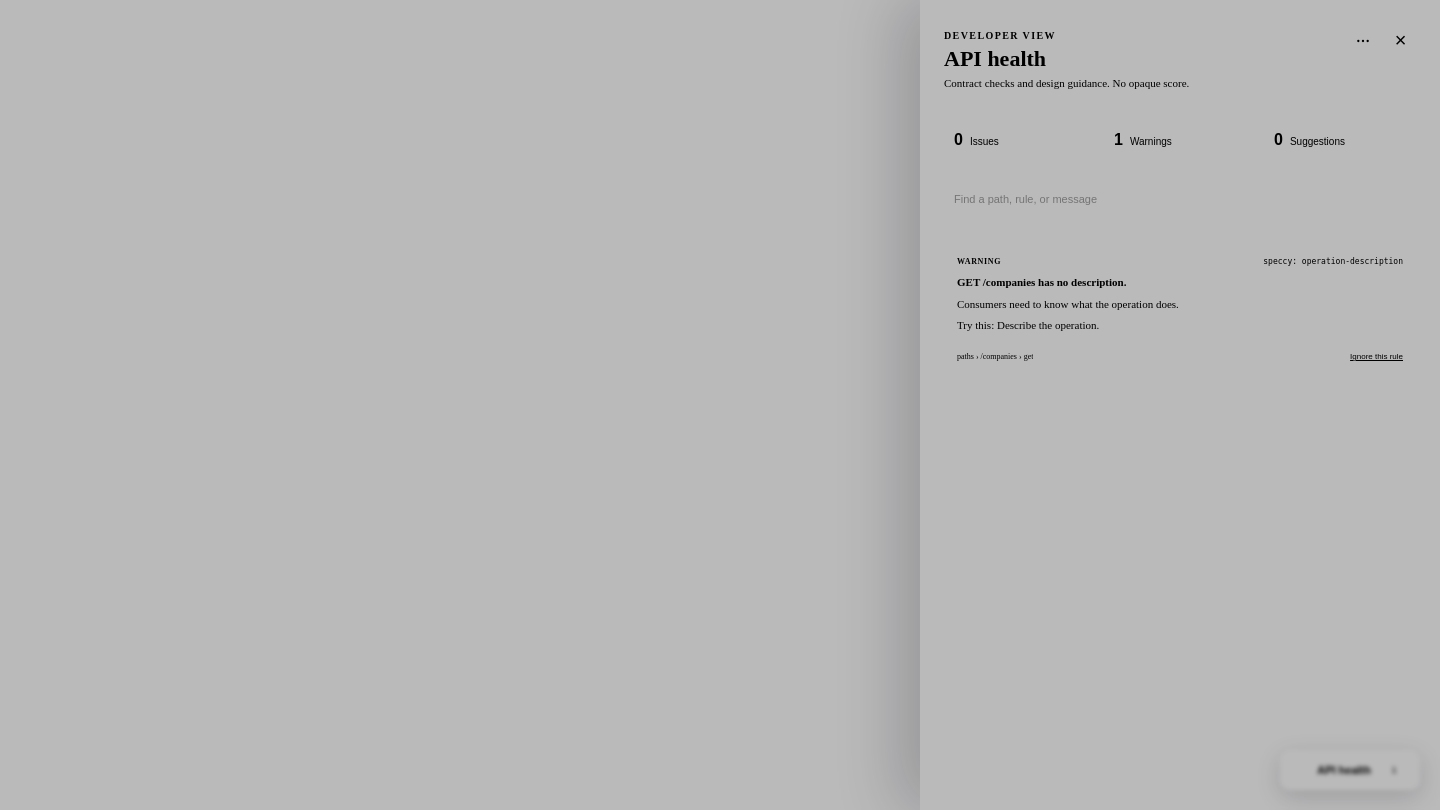
Test: developer diagnostics layout › copies all visible findings as AI-friendly text
Click the heading named "API health actions": click(1362, 40) [1354,32,1370,48]
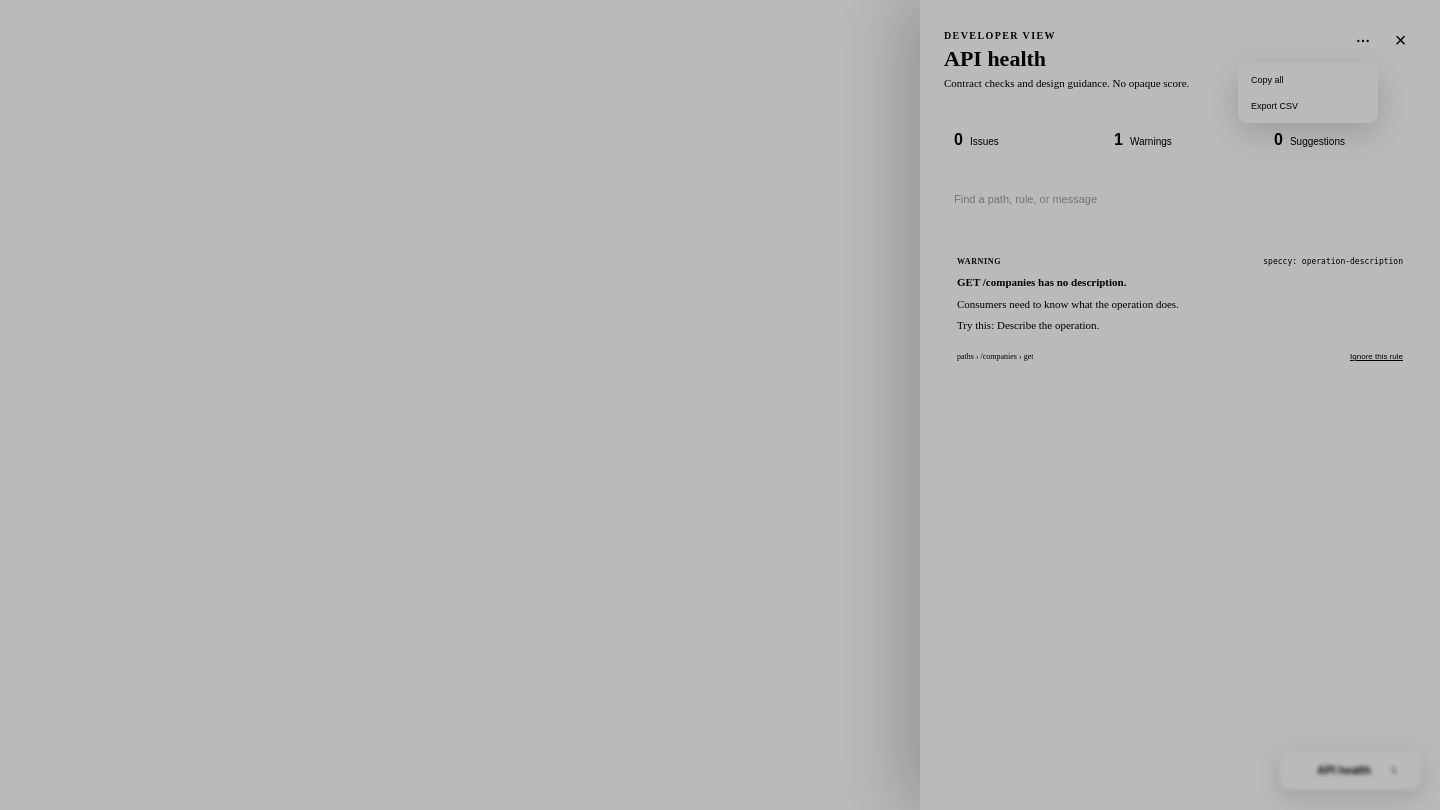
Click the button "Copy all": click(1308, 80) [1242,67,1374,93]
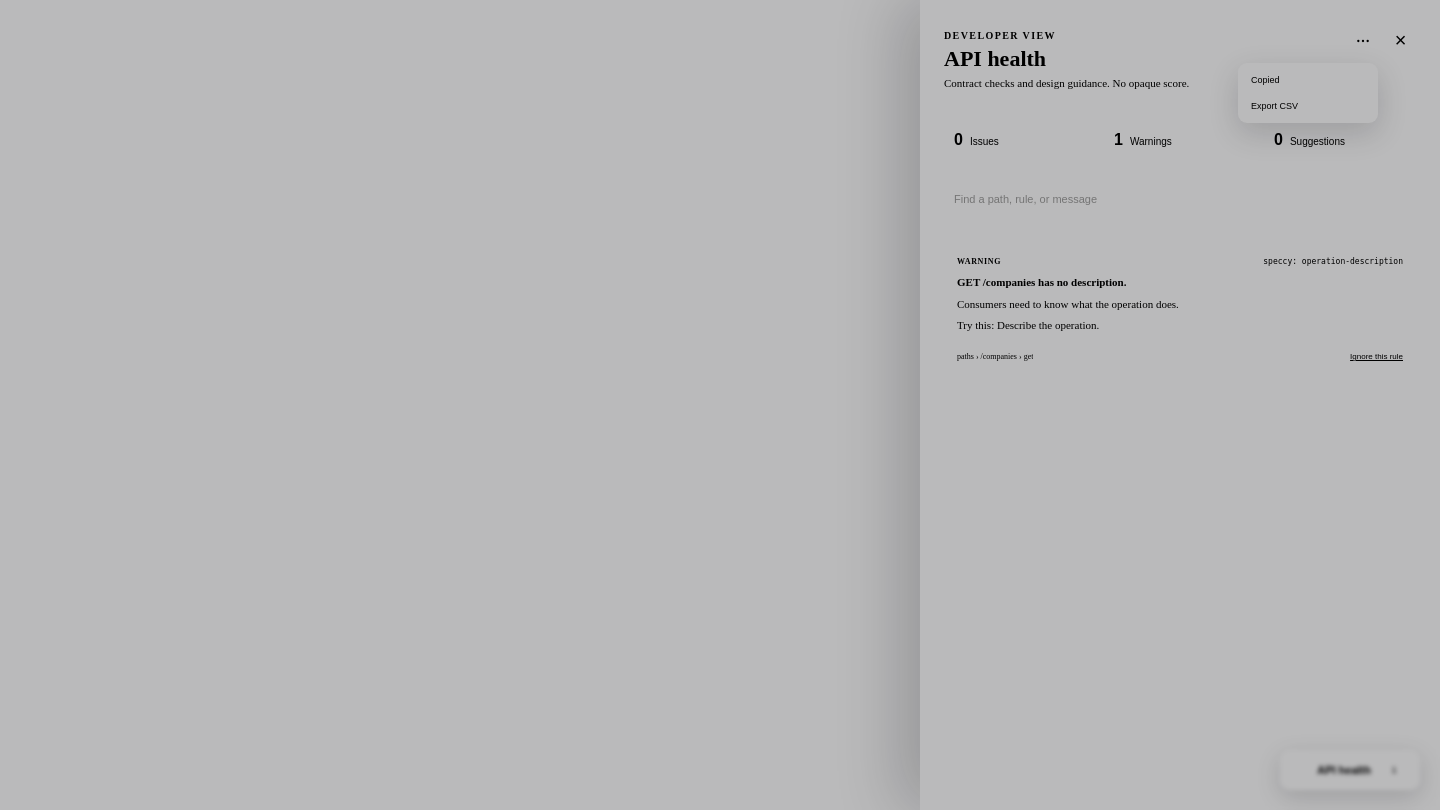
Result: the button "Copied" is shown at [1242,67,1374,93]
